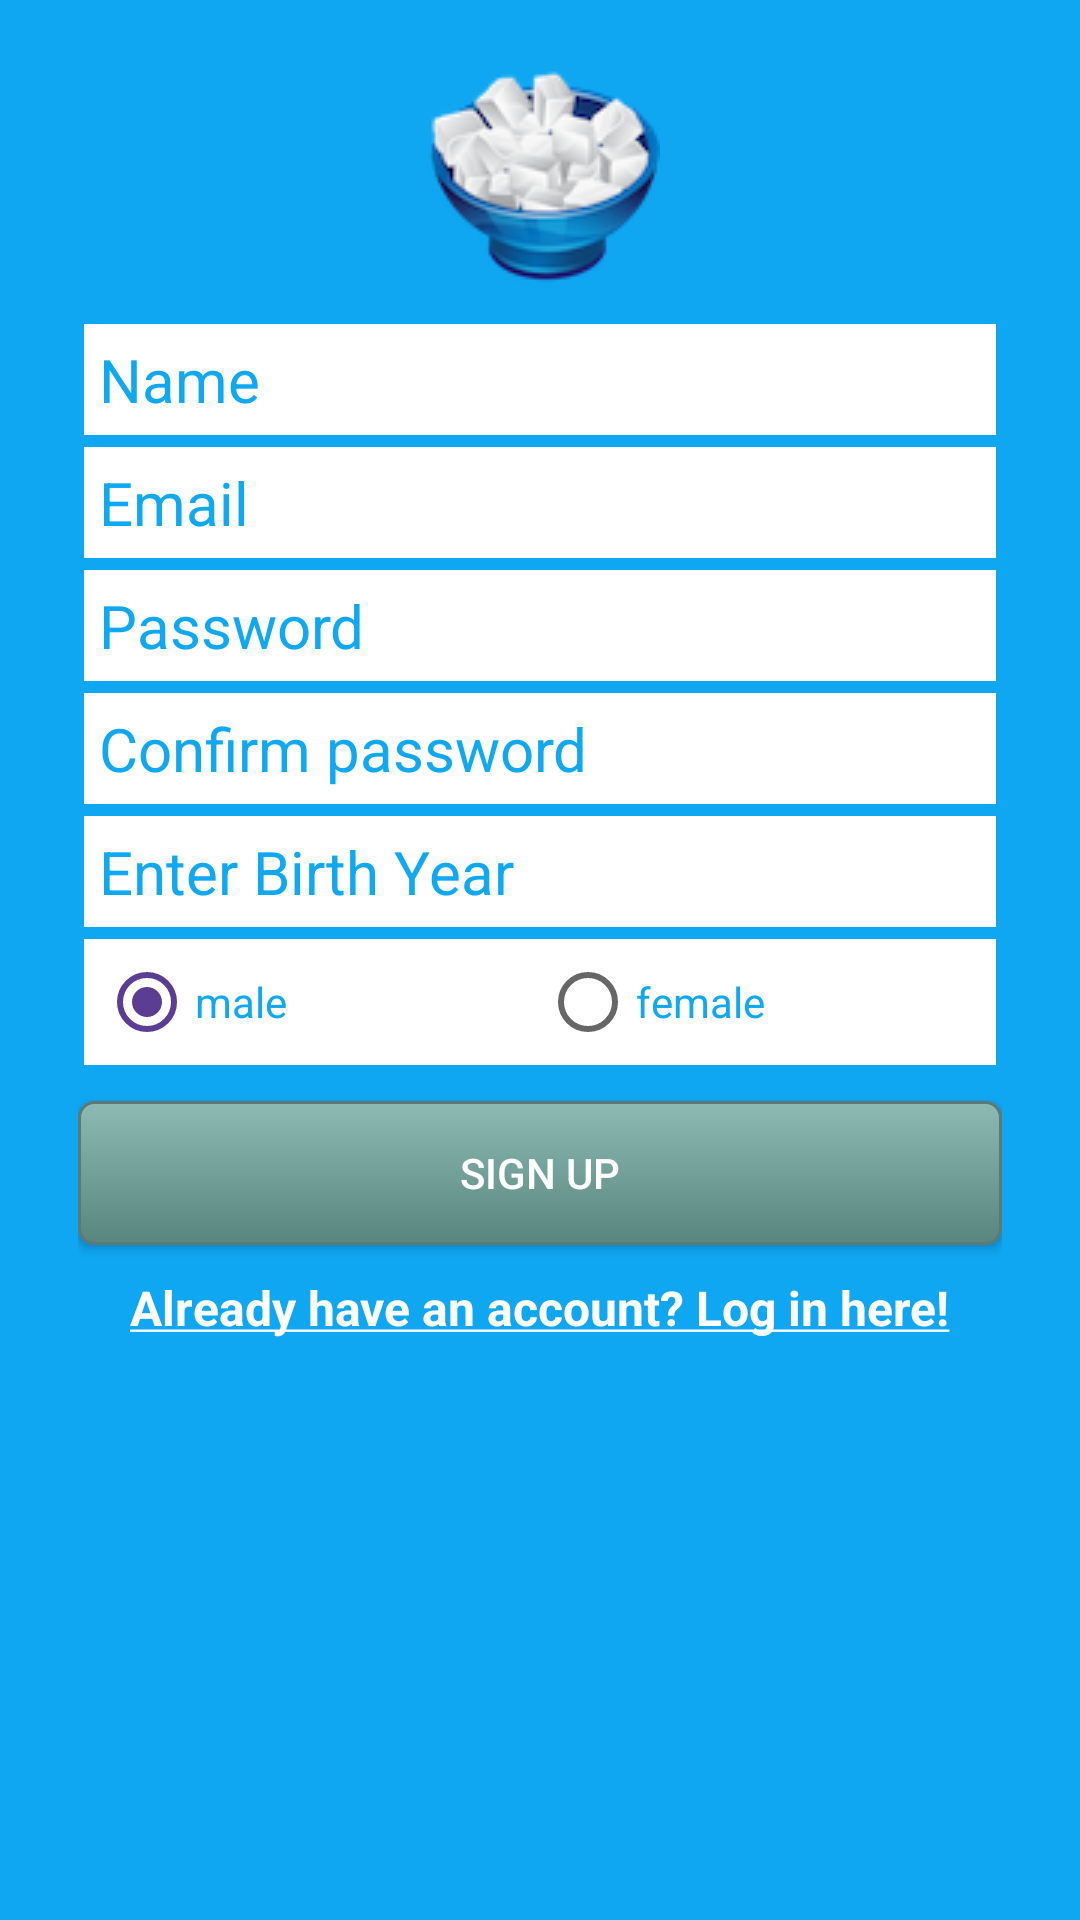

Named icons in this screenshot (1080w x 1920h) and their bounding boxes, (x1, y1, x2, y2):
sugar sm: (431, 71, 660, 280)
